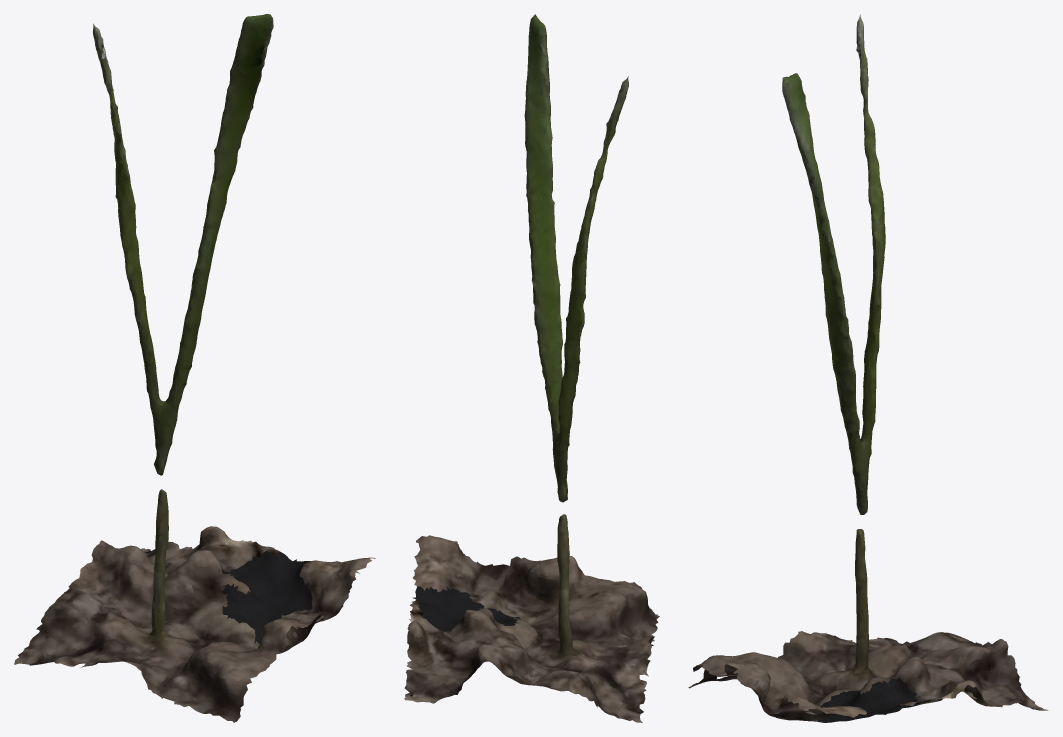
The model's file is Day2.glb.
The picture shows the model from 3 angles, left to right: view 1: azimuth 30°, elevation 25°; view 2: azimuth 150°, elevation 25°; view 3: azimuth 270°, elevation 25°; orthographic projection. The views are drawn at different scales.
Parts seen in each view (by area): view 1: Day2; view 2: Day2; view 3: Day2.
Boxes of the visible parts, box(x1,y1,x2,y2) form: Day2: box(14, 14, 375, 722); Day2: box(404, 14, 659, 722); Day2: box(688, 14, 1048, 722).
Bounding box in the file's own units: 0.2684 × 0.5602 × 0.28.
66 materials, 66 textured.
